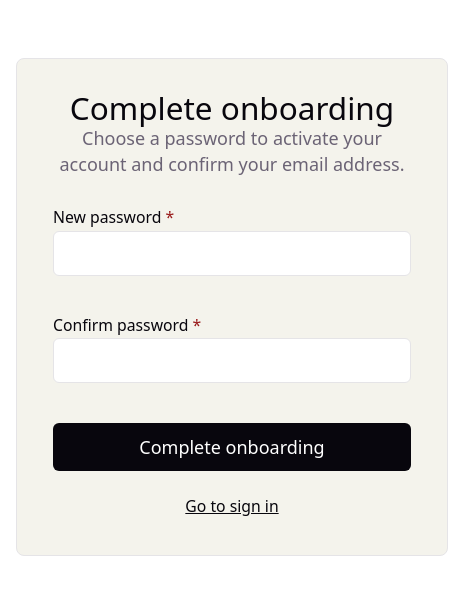
Test case: OnboardingPage › shows API error when onboarding fails
Type "validpass1" into the password field labelled "New password *".
click(232, 253); type("validpass1")  # box [53,230,411,276]
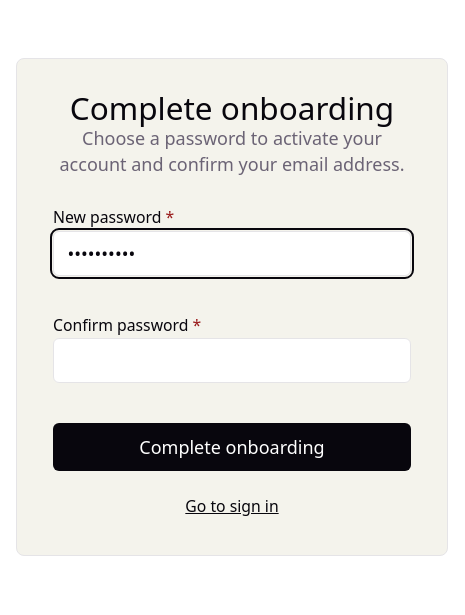
Type "validpass1" into the password field labelled "Confirm password *".
click(232, 360); type("validpass1")  # box [53,338,411,383]
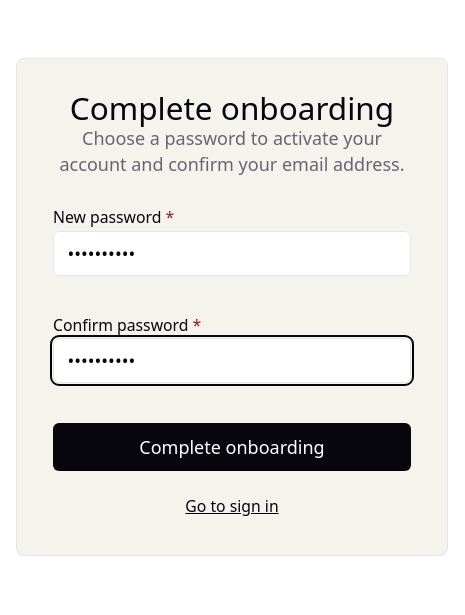
Click the button "Complete onboarding".
click(232, 447)  # box [53,423,411,471]
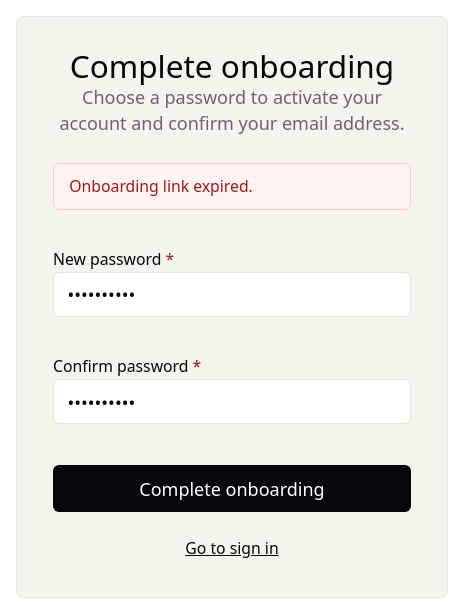
Now the text "Onboarding link expired." is shown, box [53,163,411,210]
